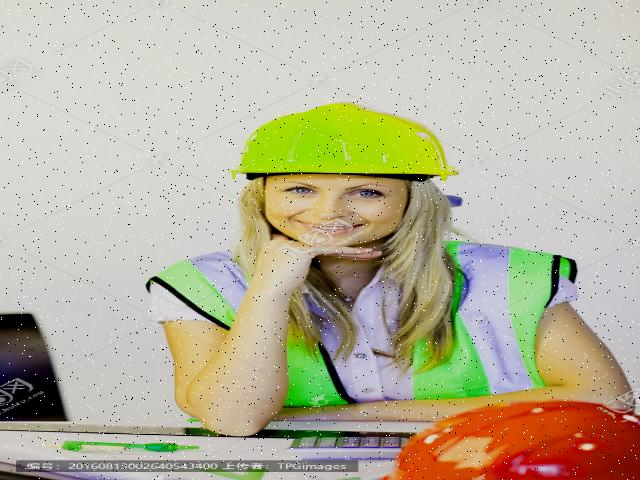Helmet: (220, 98, 470, 192)
